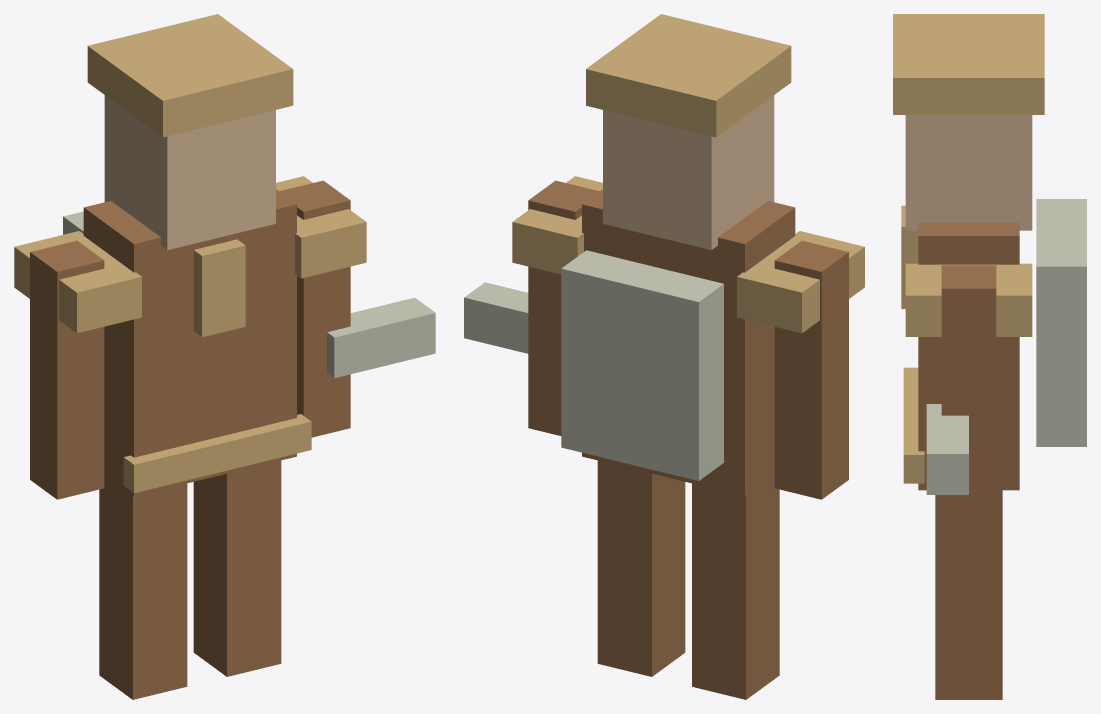
The model's file is 12_isolde_stormhush_navigator_at_wreck.glb.
3 renders of one model, left to right at view 1: azimuth 30°, elevation 25°; view 2: azimuth 150°, elevation 25°; view 3: azimuth 270°, elevation 25°, orthographic.
Parts seen in each view (by area): view 1: Isolde Stormhush, Navigator at Wreck; view 2: Isolde Stormhush, Navigator at Wreck; view 3: Isolde Stormhush, Navigator at Wreck.
Part boxes in pixels (box(x1,y1,x2,y2)): Isolde Stormhush, Navigator at Wreck: box(14, 14, 435, 699); Isolde Stormhush, Navigator at Wreck: box(464, 14, 864, 699); Isolde Stormhush, Navigator at Wreck: box(893, 14, 1086, 699).
Size of the model in its own units: 0.9554 by 1.51 by 0.4287.
